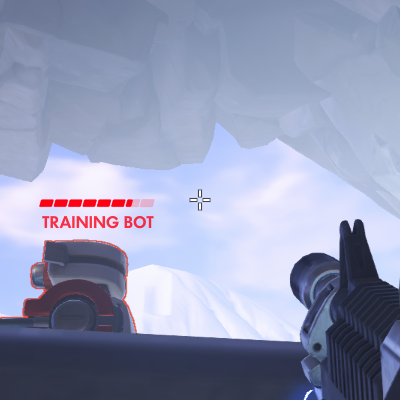hpbar: (39, 198, 155, 208)
